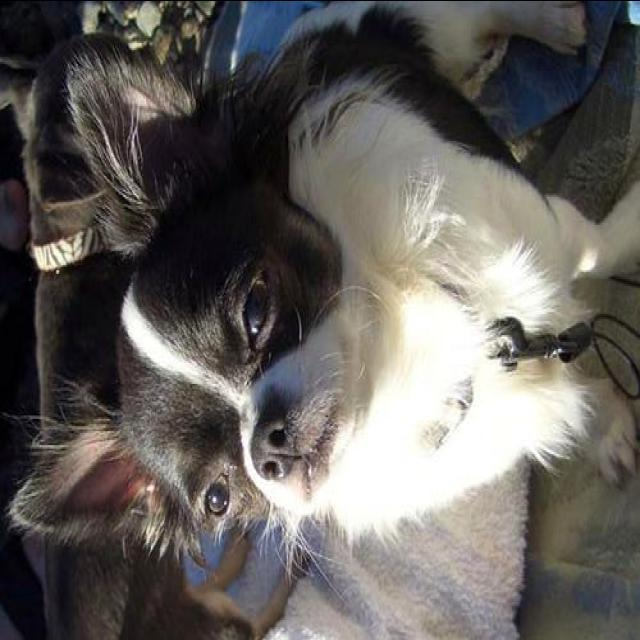chihuahua: (8, 0, 632, 572)
